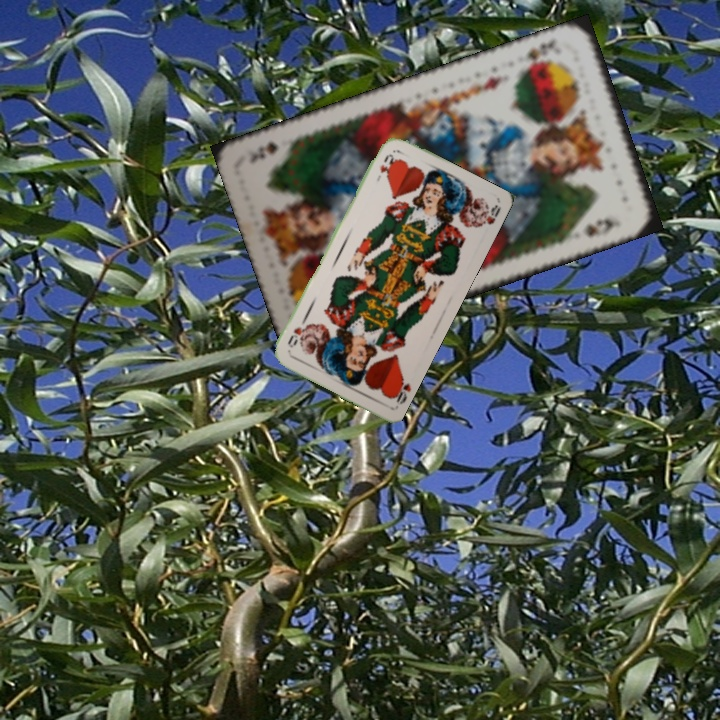HO: (386, 369, 413, 407), (372, 150, 396, 184)
SK: (517, 35, 559, 73)
